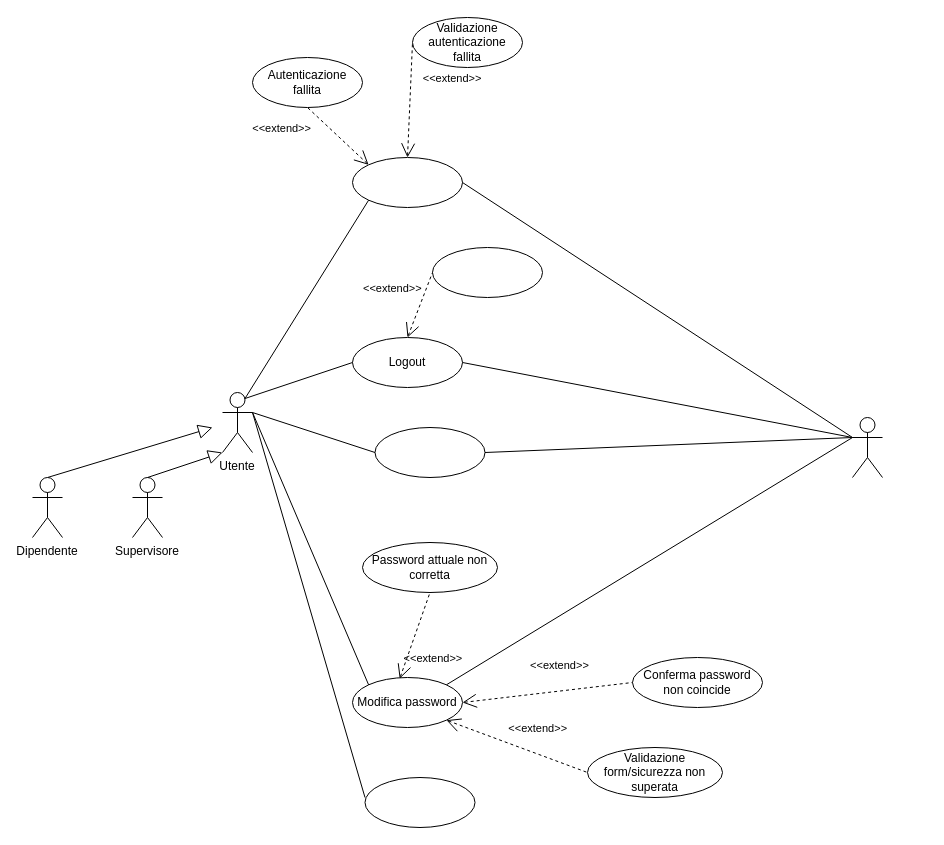
Some shapes in this 944 by 845 pixel diagram are drawn without their labels. Here are the shapes that lost their labels. From the top down, the centre of each, then its label:
At point 407,182: "Autenticazione".
At point 487,272: "Annullamento logout".
At point 429,452: "Visualizza profilo personale".
At point 867,447: "Gestore degli account".
At point 419,802: "Visualizza notifiche".
